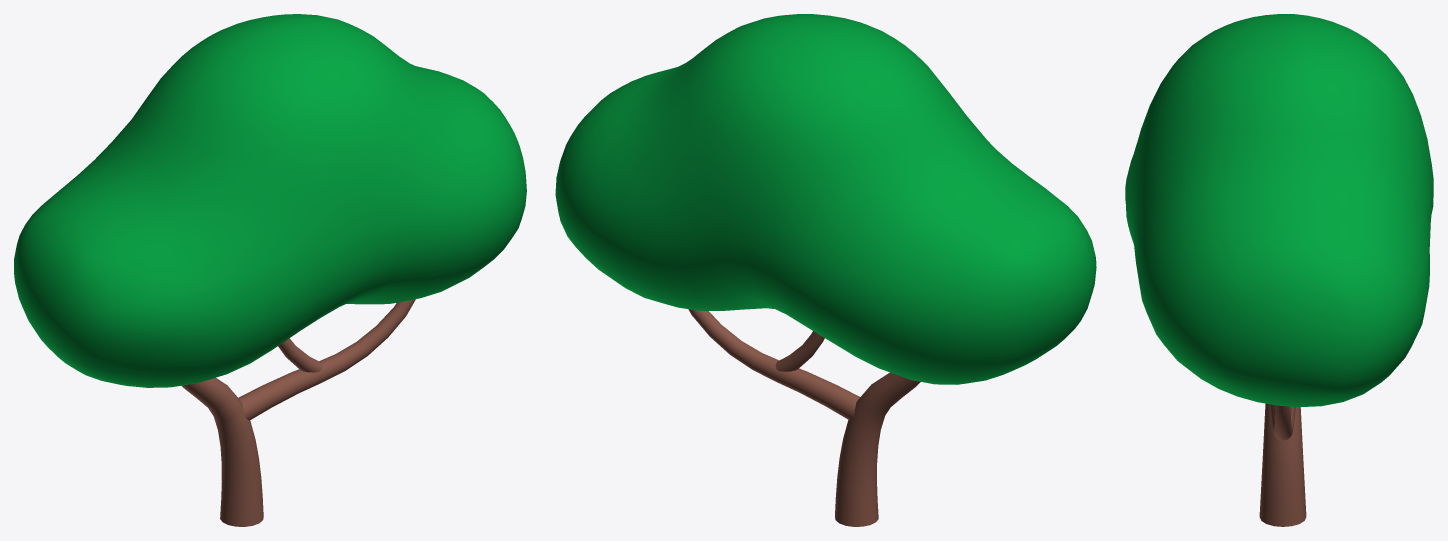
Rendered from Farm_16_Tree_2.glb.
The picture shows the model from 3 angles, left to right: view 1: azimuth 30°, elevation 25°; view 2: azimuth 150°, elevation 25°; view 3: azimuth 270°, elevation 25°; orthographic projection. The views are drawn at different scales.
Parts seen in each view (by area): view 1: Farm_16_Tree_2; view 2: Farm_16_Tree_2; view 3: Farm_16_Tree_2.
Boxes of the visible parts, x1,y1,x2,y2 form: Farm_16_Tree_2: [14, 14, 526, 526]; Farm_16_Tree_2: [555, 14, 1096, 526]; Farm_16_Tree_2: [1125, 14, 1433, 526].
Size of the model in its own units: 3.97 by 3.73 by 2.05.
Materials: 1 (1 with a texture image).
